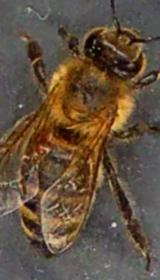varroa_mite: (22, 132, 58, 165)
